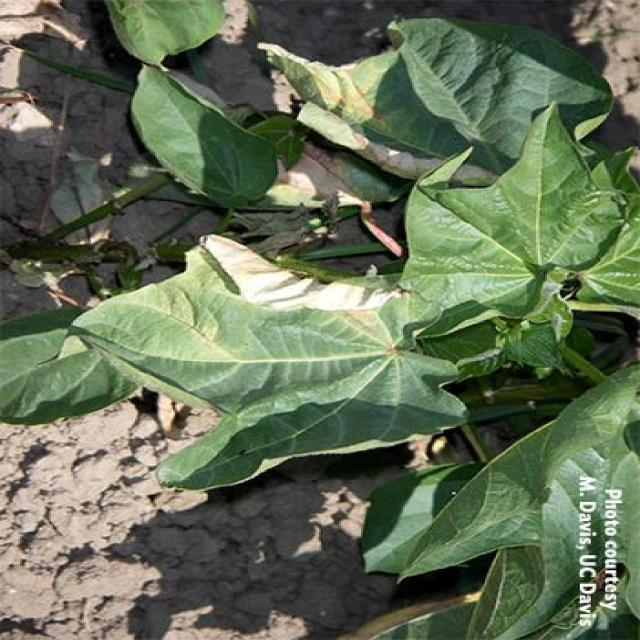Fusarium Wilt: (0, 5, 555, 640)
